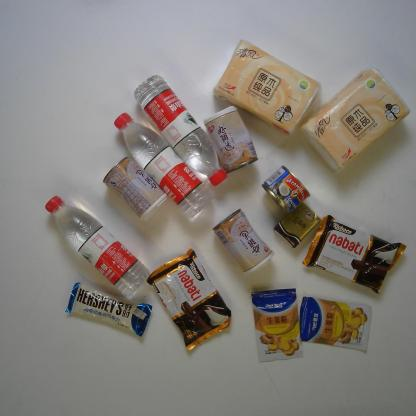Canned Food: (102, 156, 168, 222), (211, 208, 274, 277), (203, 104, 258, 174), (260, 164, 311, 215)
Chocolate: (64, 282, 153, 338)
Dessert: (146, 247, 232, 352), (302, 214, 408, 295)
Drink: (44, 195, 151, 298), (113, 112, 215, 218), (134, 74, 228, 186)
Seasoner: (250, 287, 305, 363), (298, 296, 372, 352)
Tissue: (298, 68, 412, 174), (212, 39, 320, 138), (272, 202, 322, 249)
